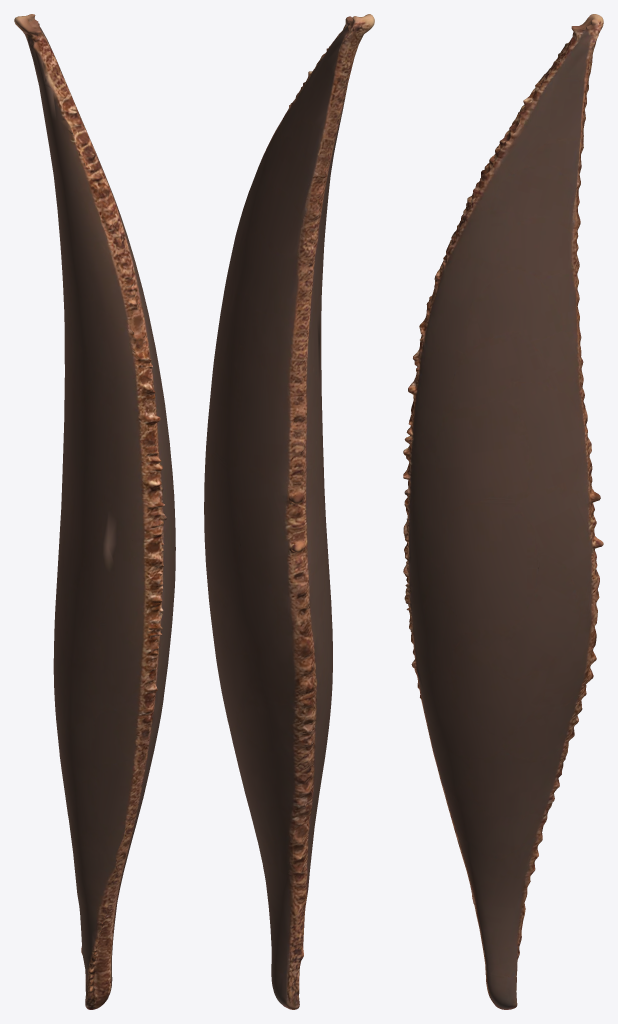
File: bk-decor-chocolate-shard.glb
3 views of the same model, side by side, from view 1: azimuth 30°, elevation 25°; view 2: azimuth 210°, elevation 25°; view 3: azimuth 270°, elevation 25° (orthographic). The views are drawn at different scales.
Parts seen in each view (by area): view 1: node_0; view 2: node_0; view 3: node_0.
Part boxes in pixels (x1,y1,x2,y2): node_0: (14, 14, 175, 1009); node_0: (204, 14, 374, 1009); node_0: (403, 14, 603, 1009).
Bounding box in the file's own units: 0.1281 × 1.18 × 0.2184.
Materials: 1 (1 with a texture image).
